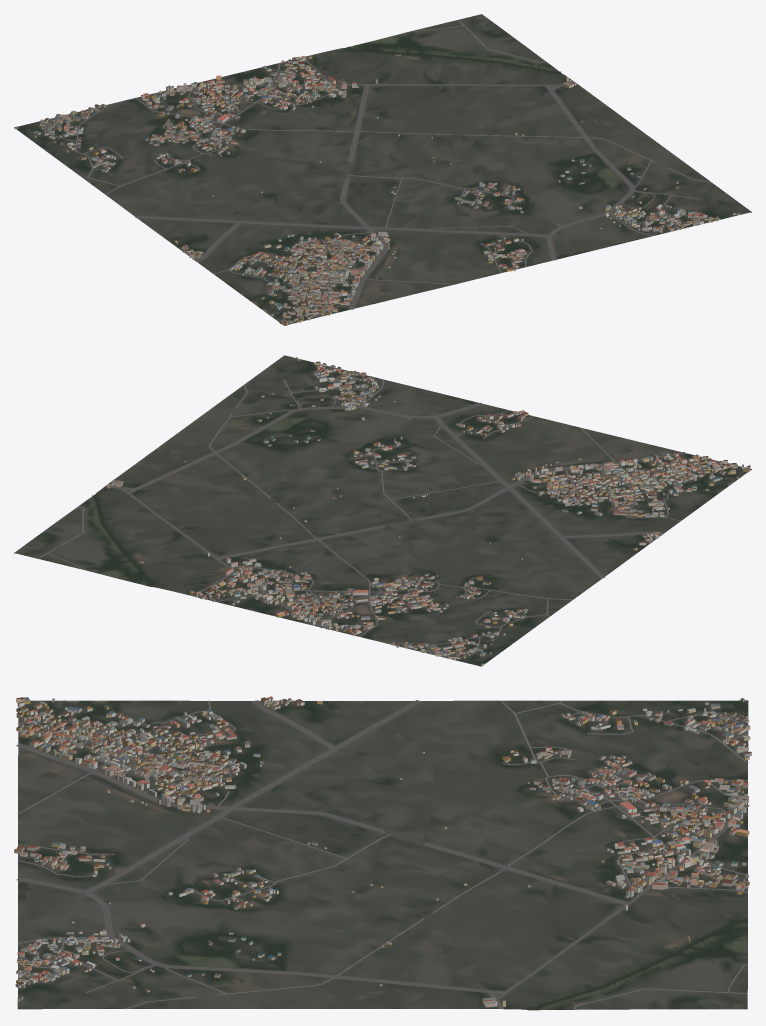
3 views of the same model, one above another, from view 1: azimuth 30°, elevation 25°; view 2: azimuth 150°, elevation 25°; view 3: azimuth 270°, elevation 25° (orthographic). The views are drawn at different scales.
Parts seen in each view (by area): view 1: ground, buildings, roads; view 2: ground, buildings, roads; view 3: ground, buildings, roads, water.
Boxes of the visible parts, bbox=[...] form: ground: bbox=[14, 14, 751, 325]; buildings: bbox=[15, 54, 739, 325]; roads: bbox=[44, 19, 737, 316]; ground: bbox=[14, 355, 751, 666]; buildings: bbox=[107, 357, 750, 665]; roads: bbox=[38, 369, 735, 657]; ground: bbox=[17, 700, 748, 1010]; buildings: bbox=[14, 696, 751, 1007]; roads: bbox=[16, 700, 749, 1009]; water: bbox=[532, 920, 747, 1010].
Bounding box in the file's own units: 1407 × 20.58 × 1417.
